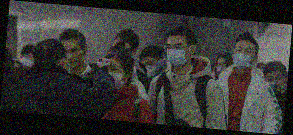with_mask: (164, 41, 191, 67), (104, 62, 127, 92), (233, 44, 257, 70), (265, 73, 286, 94), (139, 60, 161, 79), (56, 53, 72, 76), (19, 53, 36, 68), (216, 59, 228, 77)
without_mask: (63, 45, 84, 69)
